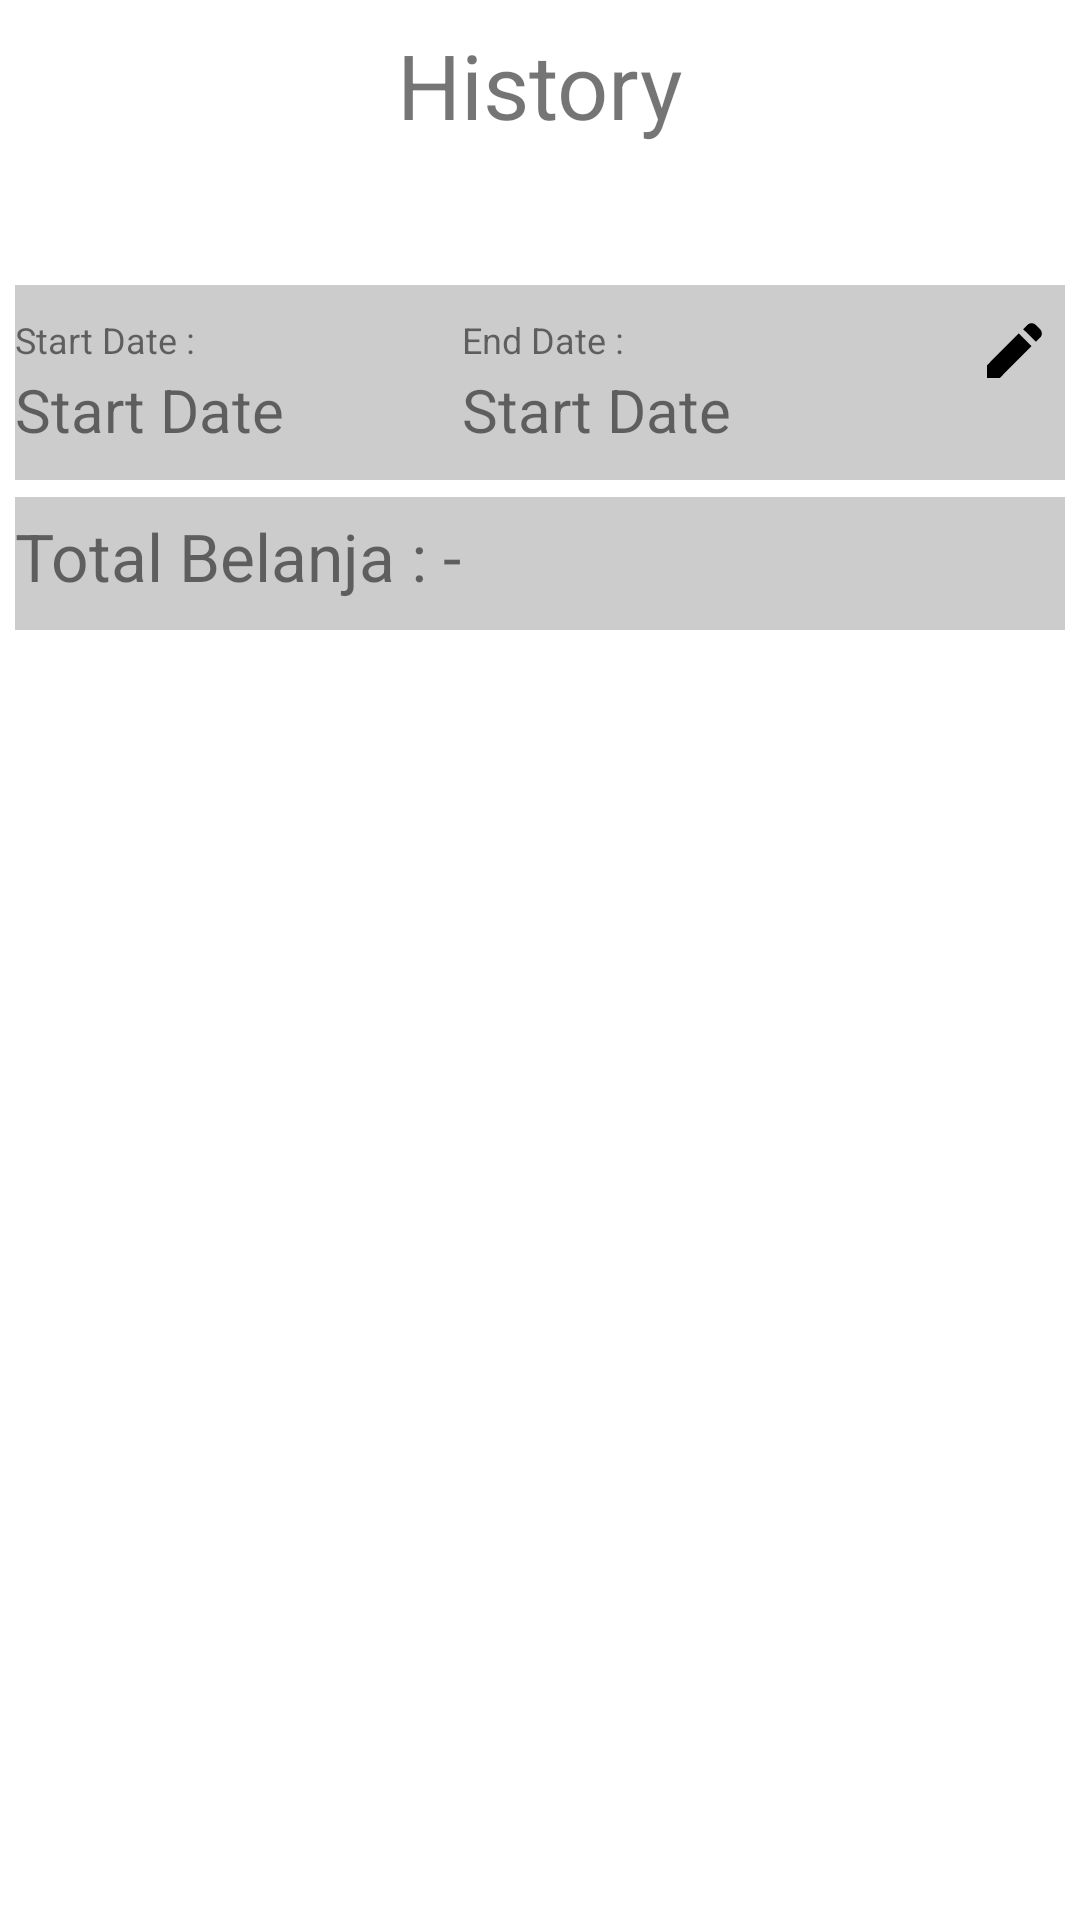

Named icons in this screenshot (1080 × 1920) and their centers, [x,y]:
edit: [1014,350]
